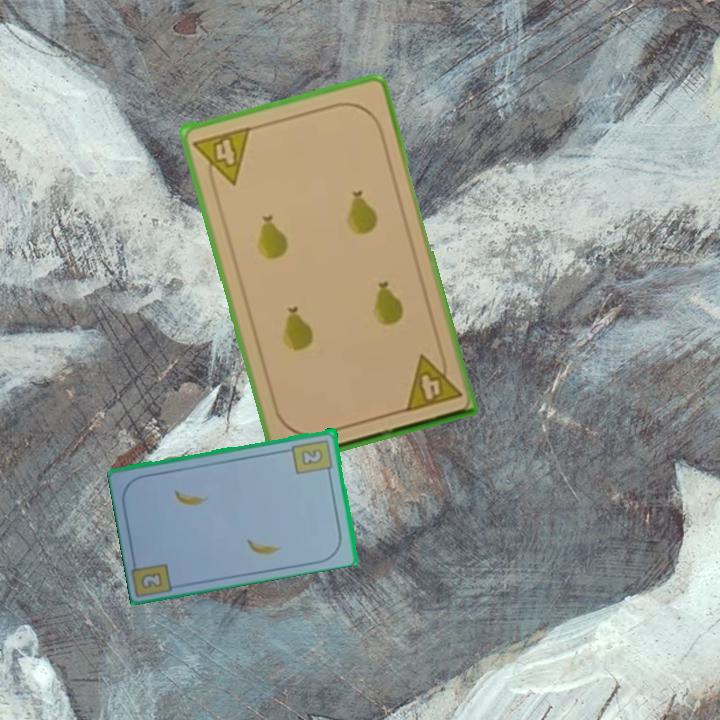2b: (289, 436, 336, 478), (137, 568, 166, 592)
4p: (190, 123, 254, 192), (400, 347, 464, 415)
